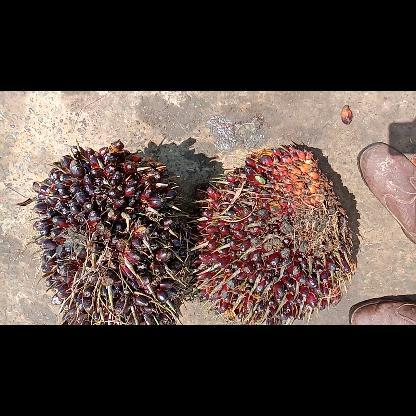TBS mentah: (19, 139, 188, 324), (188, 146, 356, 324)
